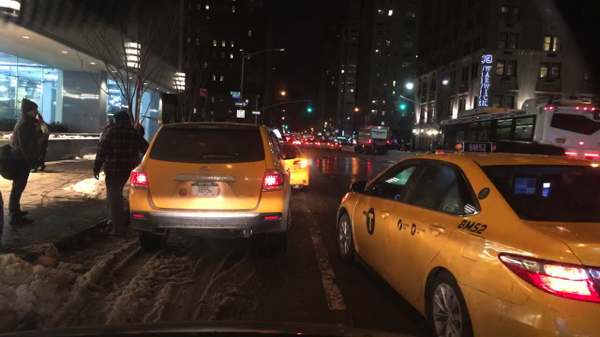bus: (431, 99, 599, 162)
car: (334, 140, 599, 337), (129, 122, 290, 255), (272, 129, 308, 190), (315, 135, 331, 149), (291, 137, 303, 147), (331, 140, 341, 150), (306, 137, 316, 147)
person: (93, 111, 149, 237), (1, 97, 43, 226), (31, 115, 53, 174), (1, 196, 5, 236)
traffic light: (393, 100, 400, 111), (400, 100, 405, 113), (307, 103, 312, 113), (285, 122, 288, 129)
traffic sign: (199, 88, 209, 97), (236, 110, 245, 118), (234, 101, 247, 106), (252, 110, 261, 116), (230, 91, 239, 95)
truck: (353, 124, 389, 156)
